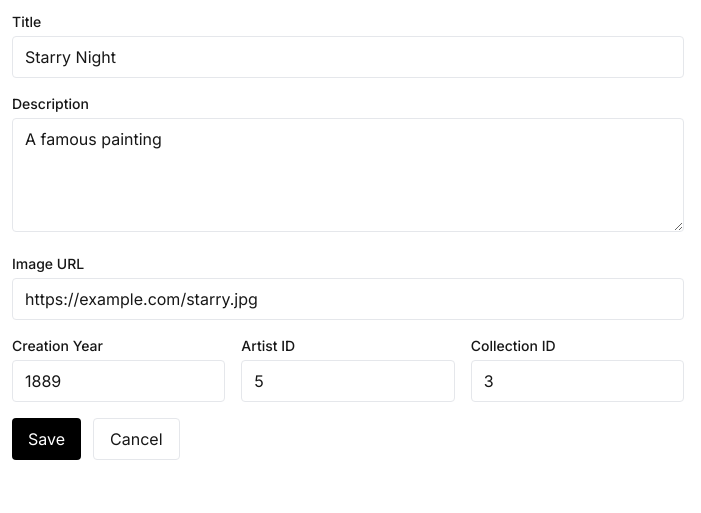
ArtworkEditForm › displays a network error when fetch throws
What coordinates should you click on to do the following:
click the button "Save"
I would click on:
 (46, 439)
Its box is [12,418,81,460].
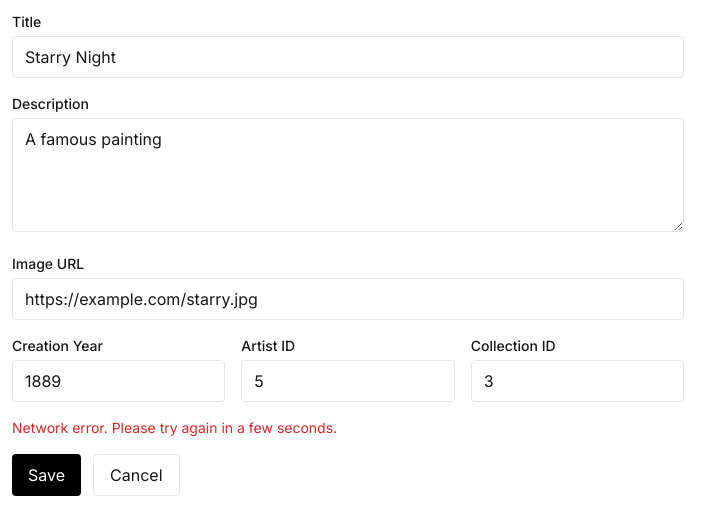
Expected: the text "Network error. Please try again in a few seconds." is shown, [12,419,337,436]
